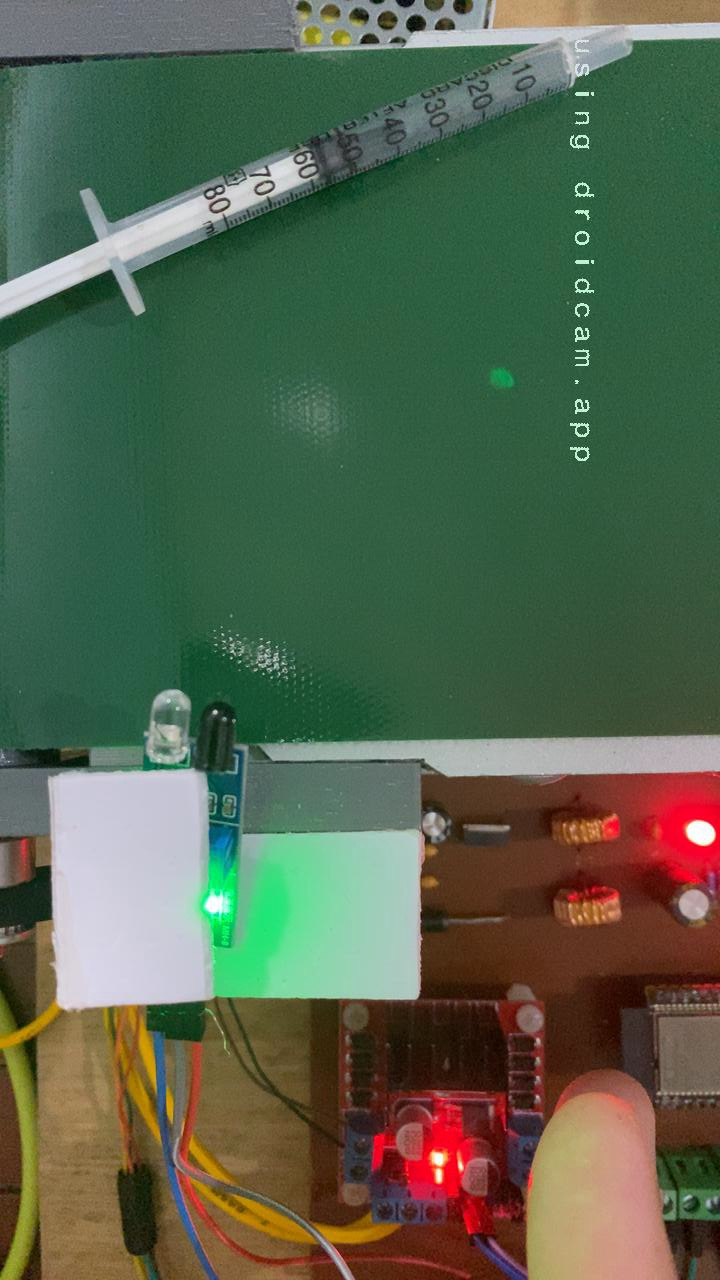syringe: (0, 124, 380, 326)
